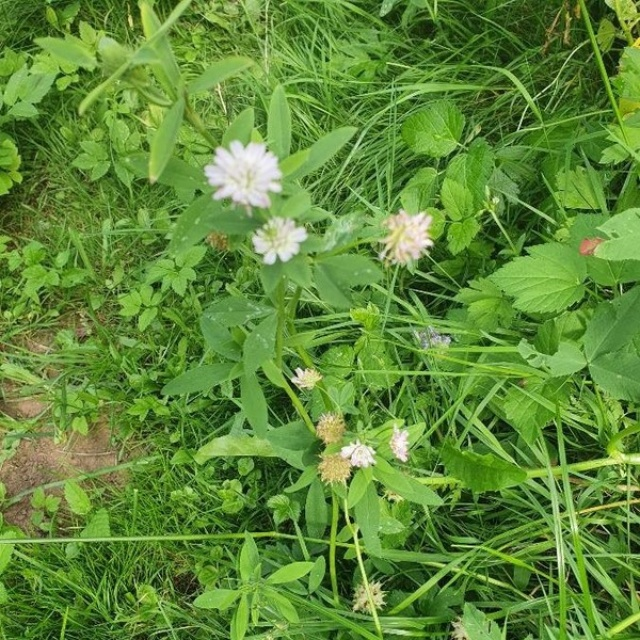obstacle: (161, 131, 607, 570)
